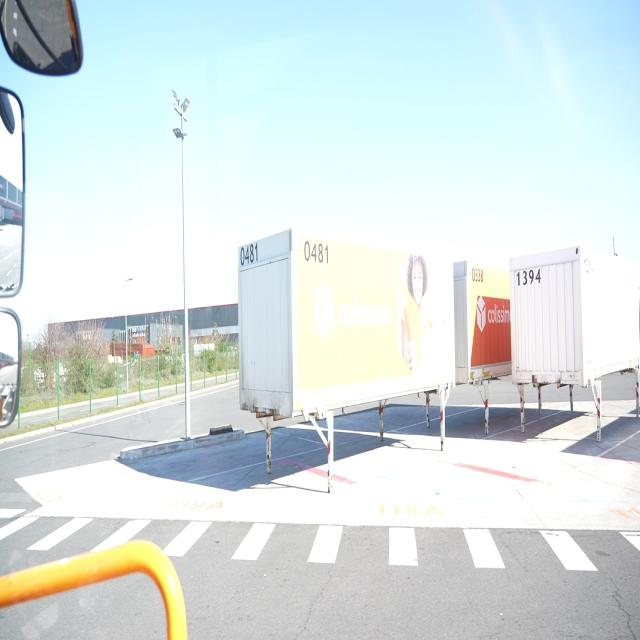Code: (301, 234, 335, 274), (511, 263, 542, 290), (238, 238, 262, 272), (468, 265, 488, 286)
